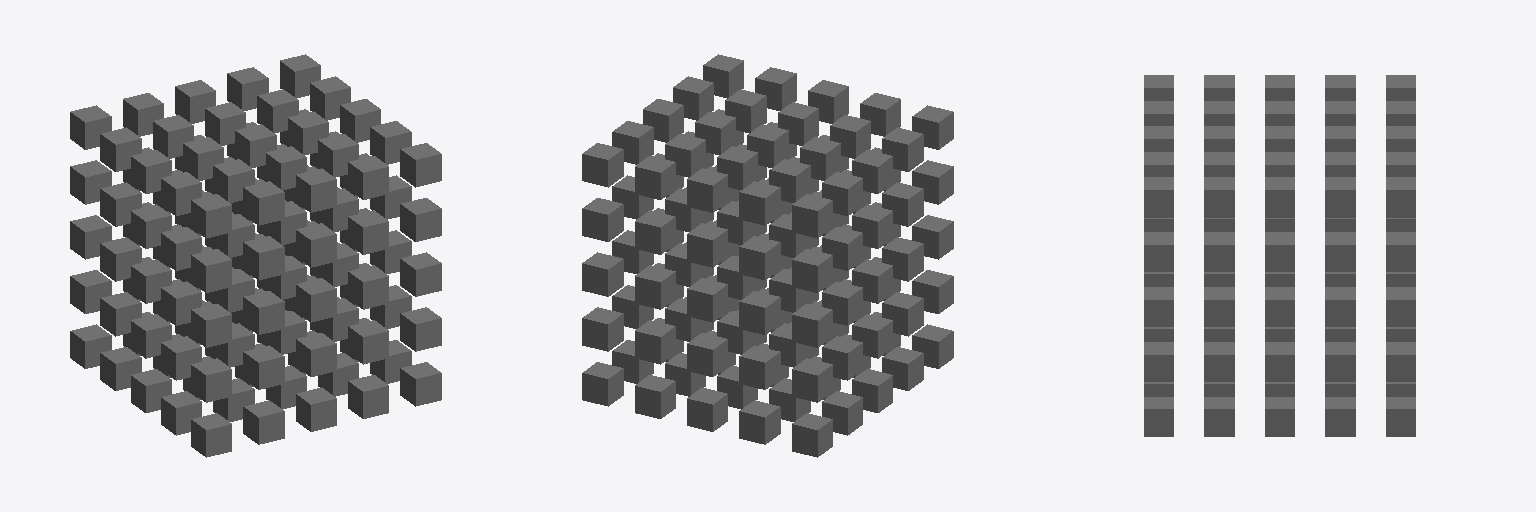
Rendered from lotofcubes.obj.
3 renders of one model, left to right at view 1: azimuth 30°, elevation 25°; view 2: azimuth 150°, elevation 25°; view 3: azimuth 270°, elevation 25°, orthographic.
Visible parts, largest first — view 1: Mesh51, Mesh110, Mesh31, Mesh36, Mesh105, Mesh115, Mesh125, Mesh41, Mesh46, Mesh120, Mesh2, Mesh11 (+28 smaller); view 2: Mesh47, Mesh106, Mesh27, Mesh32, Mesh101, Mesh111, Mesh121, Mesh37, Mesh42, Mesh116, Mesh8, Mesh22 (+28 smaller); view 3: Mesh122, Mesh124, Mesh102, Mesh104, Mesh107, Mesh109, Mesh112, Mesh114, Mesh117, Mesh119, Mesh121, Mesh123 (+28 smaller).
Boxes of the visible parts, <box> form: Mesh51: <box>243,181,284,225</box>; Mesh110: <box>400,307,441,351</box>; Mesh31: <box>243,400,284,444</box>; Mesh36: <box>243,345,284,389</box>; Mesh105: <box>400,362,441,406</box>; Mesh115: <box>400,252,441,296</box>; Mesh125: <box>400,143,441,187</box>; Mesh41: <box>243,291,284,334</box>; Mesh46: <box>243,236,284,280</box>; Mesh120: <box>400,198,441,241</box>; Mesh2: <box>296,278,336,322</box>; Mesh11: <box>191,358,231,402</box>; Mesh47: <box>739,181,780,225</box>; Mesh106: <box>582,307,623,351</box>; Mesh27: <box>739,400,780,444</box>; Mesh32: <box>739,345,780,389</box>; Mesh101: <box>582,362,623,406</box>; Mesh111: <box>582,252,623,296</box>; Mesh121: <box>582,143,623,187</box>; Mesh37: <box>739,291,780,334</box>; Mesh42: <box>739,236,780,280</box>; Mesh116: <box>582,198,623,241</box>; Mesh8: <box>792,358,832,402</box>; Mesh22: <box>792,194,832,238</box>; Mesh122: <box>1325,177,1355,217</box>; Mesh124: <box>1204,177,1234,217</box>; Mesh102: <box>1325,397,1355,436</box>; Mesh104: <box>1204,397,1234,436</box>; Mesh107: <box>1325,342,1355,381</box>; Mesh109: <box>1204,342,1234,381</box>; Mesh112: <box>1325,287,1355,326</box>; Mesh114: <box>1204,287,1234,326</box>; Mesh117: <box>1325,232,1355,271</box>; Mesh119: <box>1204,232,1234,271</box>; Mesh121: <box>1386,177,1415,217</box>; Mesh123: <box>1265,177,1294,217</box>.
Size of the model in its own units: 9 by 9 by 9.